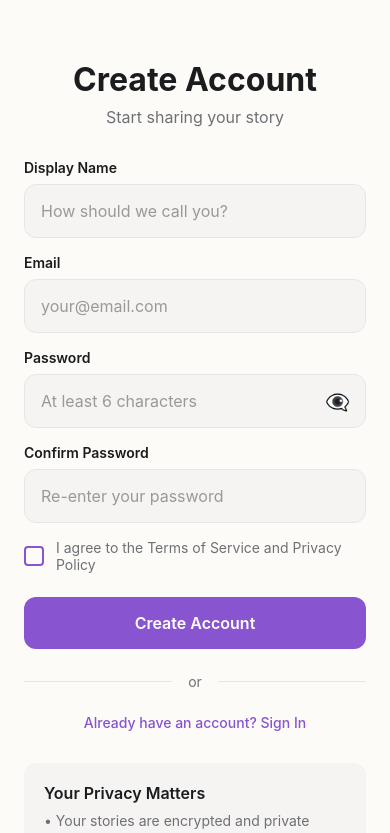
Test: SignUpScreen › Form Interactions › should toggle terms agreement checkbox
Expected: the text "✓" is not shown
Tap to check
Click the element showing "I agree to the Terms of Service and Privacy Policy" at [195, 556], box [24,539,366,573]
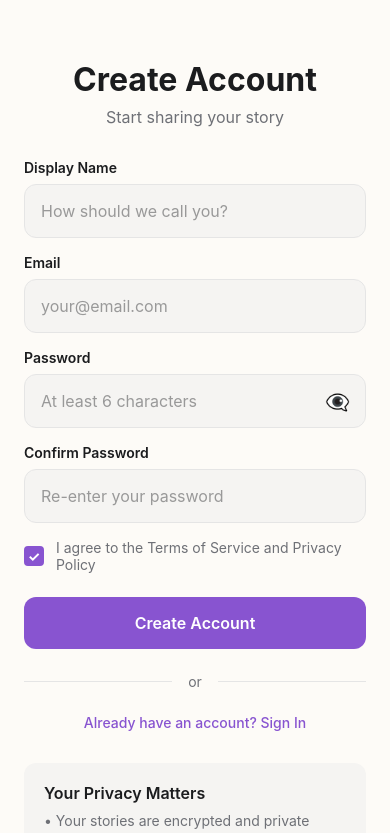
Now the text "✓" is shown, box [28,548,40,564]
Tap to uncheck
Click the element showing "✓ I agree to the Terms of Service and Privacy Policy" at [195, 556], box [24,539,366,573]
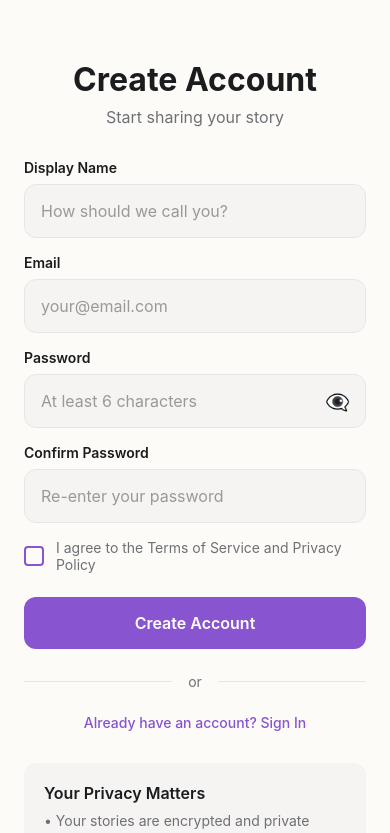
Now the text "✓" is gone
